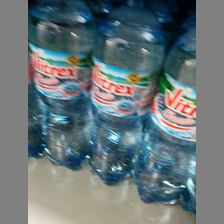water: (83, 2, 166, 186), (29, 1, 96, 172), (135, 27, 196, 206)
